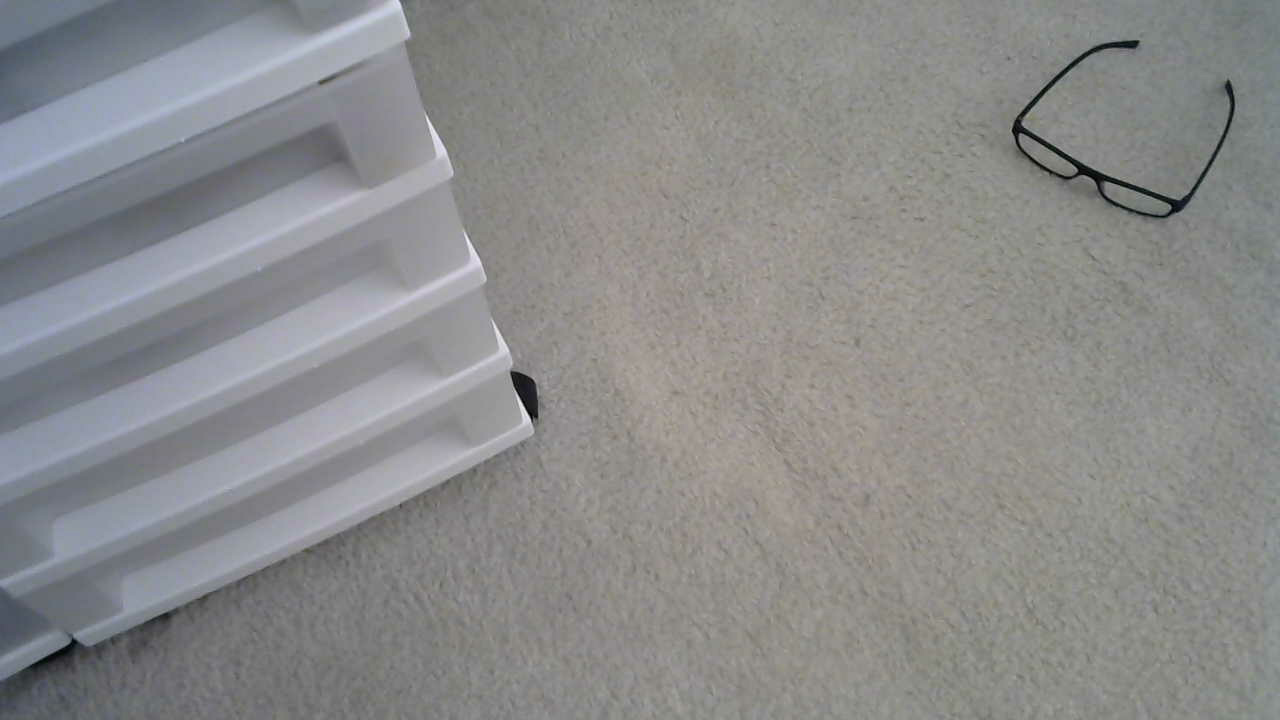Glasses: (996, 48, 1260, 235)
